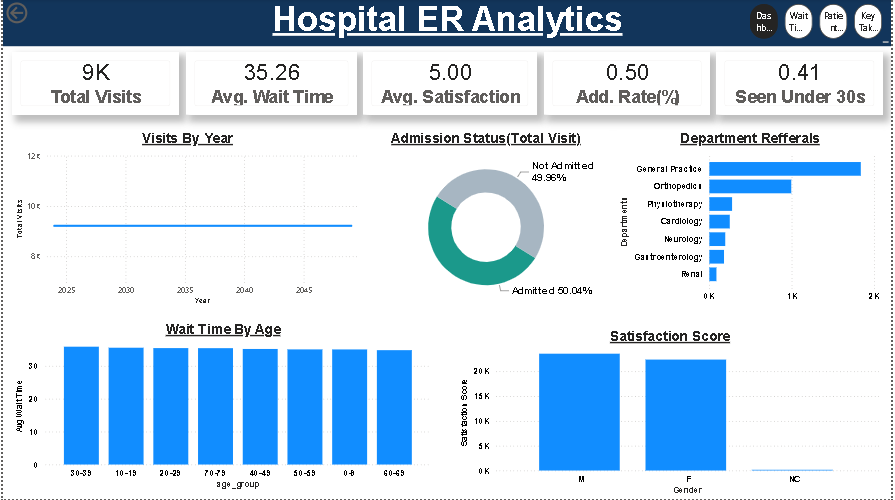

The page's visual inventory and layout, read from the dashboard file:
{"tool":"powerbi","page":{"name":"Dashboard","canvas":[1280,720],"ordinal":0},"visuals":[{"type":"textbox","title":"Hospital ER Analytics","box":[0,0,1280.2,67.7],"z":0},{"type":"pageNavigator","box":[1075.7,7.2,191.5,50.4],"z":1000},{"type":"cardVisual","fields":{"Data":["ER.Total Visits"]},"box":[13,76.3,240.5,90.7],"z":2000},{"type":"cardVisual","fields":{"Data":["ER.Avg Wait Time"]},"box":[262.8,76.3,246.2,90.7],"z":3000},{"type":"cardVisual","fields":{"Data":["ER.Avg Satisfaction"]},"box":[518.4,76.3,250.6,90.7],"z":4000},{"type":"cardVisual","fields":{"Data":["ER.Admission Rate"]},"box":[778.3,76.3,239,90.7],"z":5000},{"type":"cardVisual","fields":{"Data":["ER.% Seen Within 30"]},"box":[1026.7,76.3,240.5,90.7],"z":6000},{"type":"lineChart","title":"Visits By Year","fields":{"Category":["dim_date.year_month.Variation.Date Hierarchy.Year","dim_date.year_month.Variation.Date Hierarchy.Quarter","dim_date.year_month.Variation.Date Hierarchy.Month","dim_date.year_month.Variation.Date Hierarchy.Day"],"Y":["ER.Total Visits"]},"box":[13,188.6,505.4,256.3],"z":7000},{"type":"actionButton","box":[0,0,100,40],"z":8000},{"type":"donutChart","title":"Admission Status(Total Visit)","fields":{"Category":["ER.admission_status"],"Y":["ER.Total Visits"]},"box":[519.1,188.1,354.4,257],"z":9000},{"type":"barChart","title":"Department Refferals","fields":{"Category":["ER.department_referral"],"Y":["ER.Total Visits"]},"box":[884.2,188.6,383,256.3],"z":10000},{"type":"columnChart","title":"Wait Time By Age","fields":{"Category":["ER.age_group"],"Y":["ER.Avg Wait Time"]},"box":[13,463.7,607.7,247.7],"z":11000},{"type":"columnChart","title":"Satisfaction Score","fields":{"Category":["ER.gender"],"Y":["Sum(ER.satisfaction_score)"]},"box":[653.8,473.8,613.4,246.2],"z":12000}]}

Visuals, with their boxes in screenshot pixels (x1, y1, x2, y2), scaled from the page's 1280x720 canvas onto the 895x500 screenshot:
"Hospital ER Analytics" textbox: [0, 0, 894, 47]
pageNavigator: [752, 5, 886, 40]
cardVisual - ER.Total Visits: [9, 53, 177, 116]
cardVisual - ER.Avg Wait Time: [184, 53, 356, 116]
cardVisual - ER.Avg Satisfaction: [362, 53, 538, 116]
cardVisual - ER.Admission Rate: [544, 53, 711, 116]
cardVisual - ER.% Seen Within 30: [718, 53, 886, 116]
"Visits By Year" lineChart: [9, 131, 362, 309]
actionButton: [0, 0, 70, 28]
"Admission Status(Total Visit)" donutChart: [363, 131, 611, 309]
"Department Refferals" barChart: [618, 131, 886, 309]
"Wait Time By Age" columnChart: [9, 322, 434, 494]
"Satisfaction Score" columnChart: [457, 329, 886, 499]
